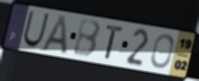2: (125, 28, 151, 69)
A: (40, 14, 69, 57)
B: (71, 19, 102, 60)
O: (149, 33, 175, 70)
T: (104, 24, 125, 61)
U: (21, 9, 51, 49)
